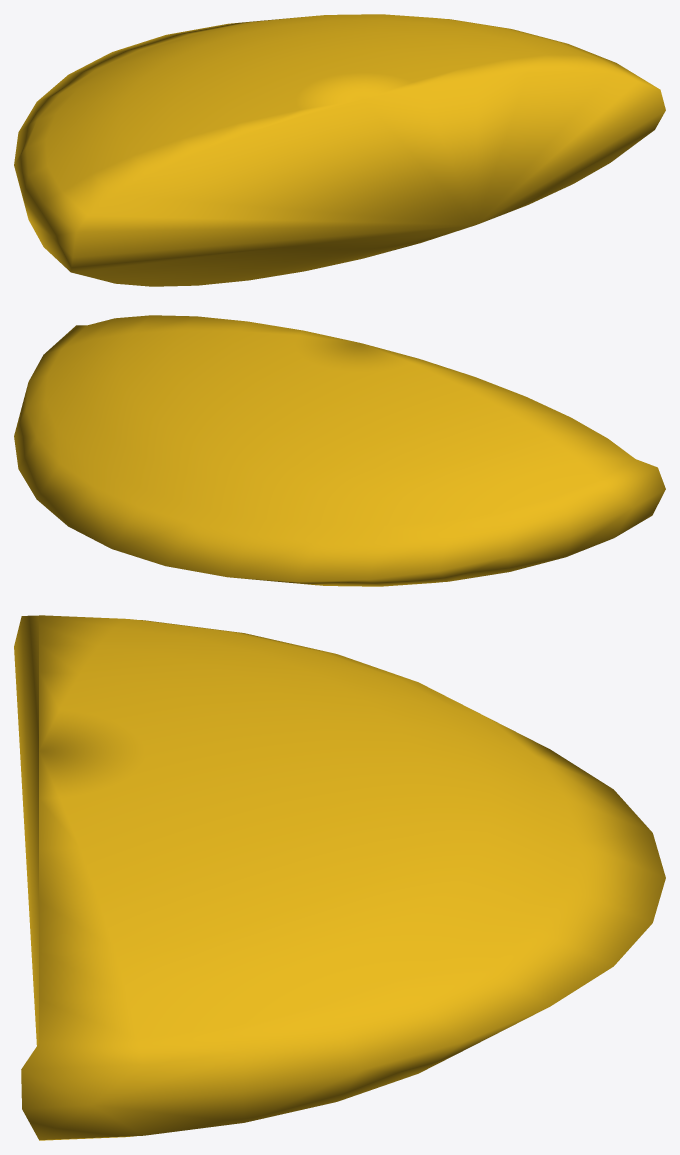
File: empanada.fbx
3 views of the same model, one above another, from view 1: azimuth 30°, elevation 25°; view 2: azimuth 150°, elevation 25°; view 3: azimuth 270°, elevation 25° (orthographic). The views are drawn at different scales.
Parts seen in each view (by area): view 1: Sphere; view 2: Sphere; view 3: Sphere.
Part boxes in pixels (x1,y1,x2,y2): Sphere: [14, 14, 665, 286]; Sphere: [14, 315, 665, 586]; Sphere: [14, 615, 665, 1140].
Size of the model in its own units: 200 by 51.14 by 119.
